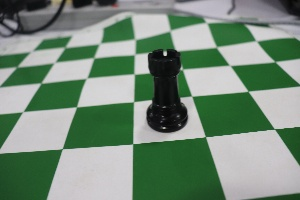black_rook: (135, 31, 196, 139)
